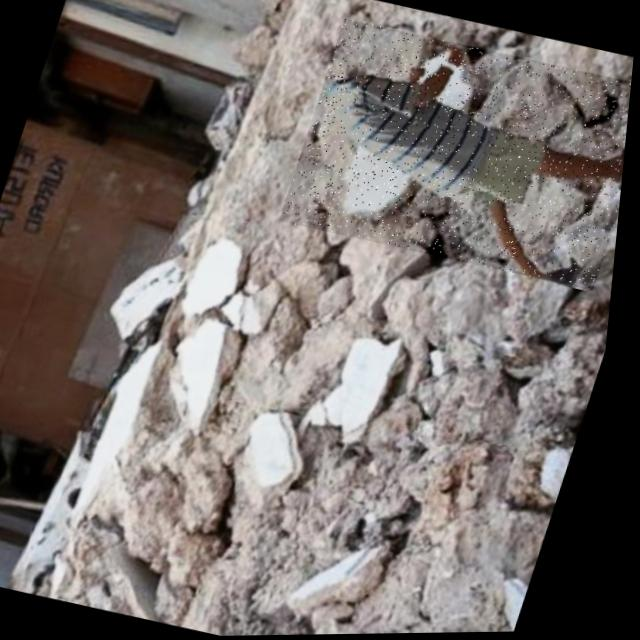Person in Rubble: (277, 15, 638, 295)
